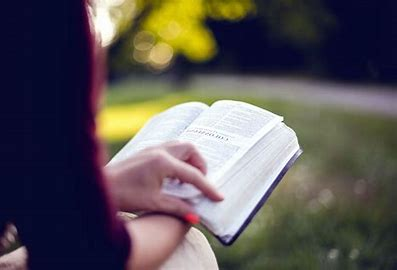book: (103, 99, 305, 249)
